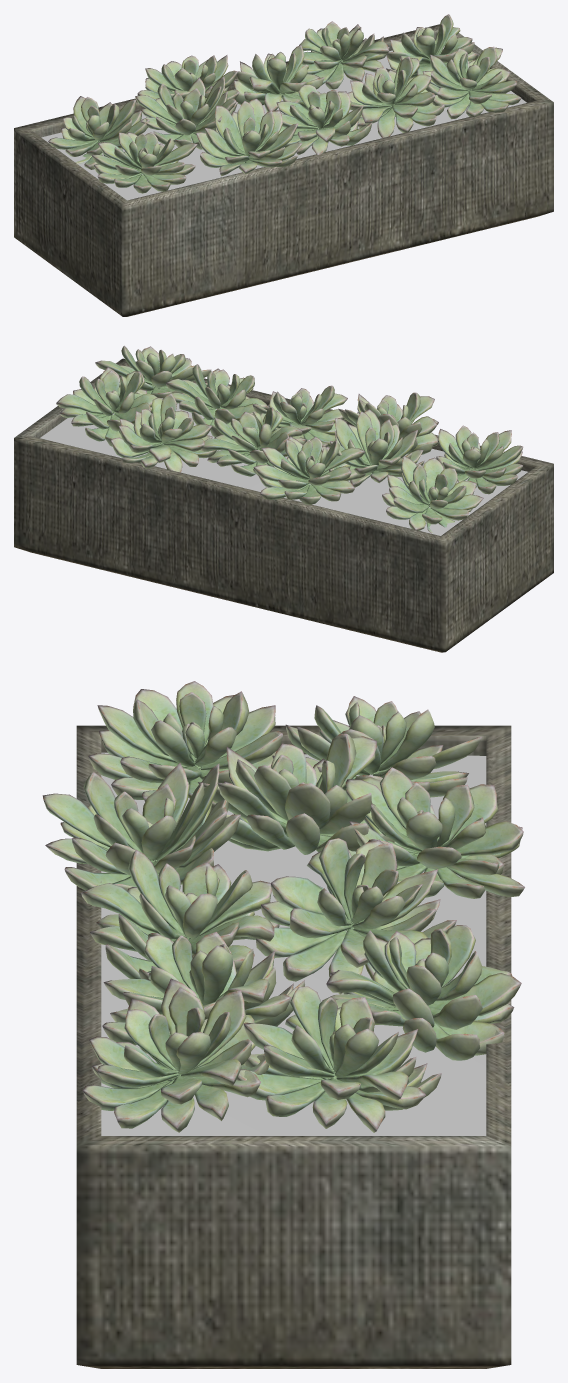
File: sofa08_succulent.fbx
3 renders of one model, top to bottom at view 1: azimuth 30°, elevation 25°; view 2: azimuth 150°, elevation 25°; view 3: azimuth 270°, elevation 25°, orthographic. The views are drawn at different scales.
Visible parts, largest first — view 1: 345346, default1370, Object012, Object013, Box006; view 2: 345346, Object012, default1370, Object013, Box006; view 3: 345346, Object012, default1370, Object013, Box006.
Boxes of the visible parts, left/top/right/bottom form: 345346: left=14, top=24, right=553, bottom=316; default1370: left=48, top=45, right=444, bottom=176; Object012: left=137, top=14, right=478, bottom=154; Object013: left=92, top=46, right=521, bottom=193; Box006: left=41, top=46, right=526, bottom=200; 345346: left=14, top=358, right=553, bottom=652; Object012: left=56, top=367, right=365, bottom=504; default1370: left=166, top=364, right=483, bottom=533; Object013: left=95, top=345, right=523, bottom=494; Box006: left=40, top=403, right=527, bottom=535; 345346: left=76, top=725, right=511, bottom=1368; Object012: left=81, top=767, right=524, bottom=1132; default1370: left=42, top=696, right=481, bottom=1053; Object013: left=82, top=681, right=394, bottom=1132; Box006: left=101, top=752, right=486, bottom=1135.
Bounding box in the file's own units: 55.92 × 20.78 × 27.09.
